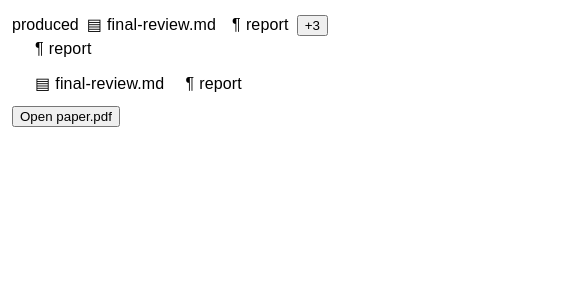
produced files › keeps generated cache files accessible in a collapsed group beside ordinary files
Click the button named "3 more produced files" at (312, 26), box x1=297 y1=15 x2=328 y2=36
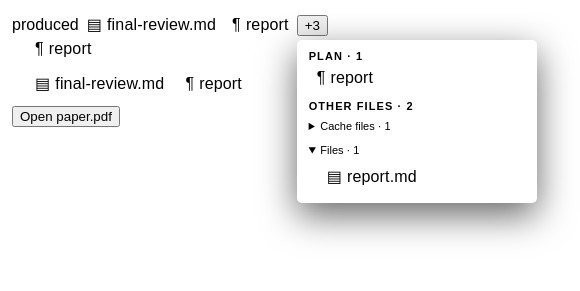
Expected: the menu item "index.db" is not shown
Result: the menu item "▤ report.md" is shown at x1=319 y1=164 x2=425 y2=189
Click the heading "Cache files · 1" at (355, 126), box x1=320 y1=120 x2=391 y2=132
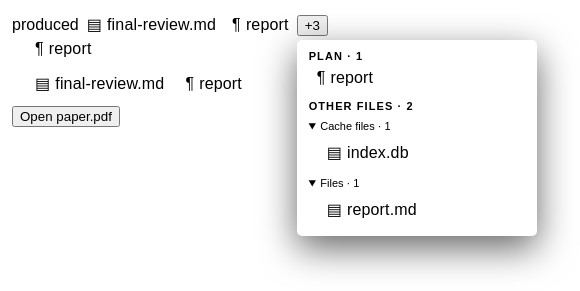
Result: the menu item "▤ index.db" is shown at x1=319 y1=140 x2=417 y2=165
